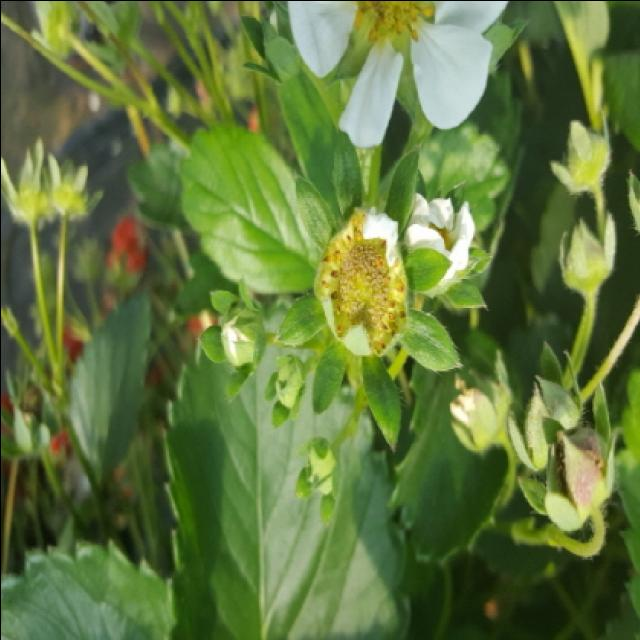Blossom Blight: (315, 208, 408, 354)
